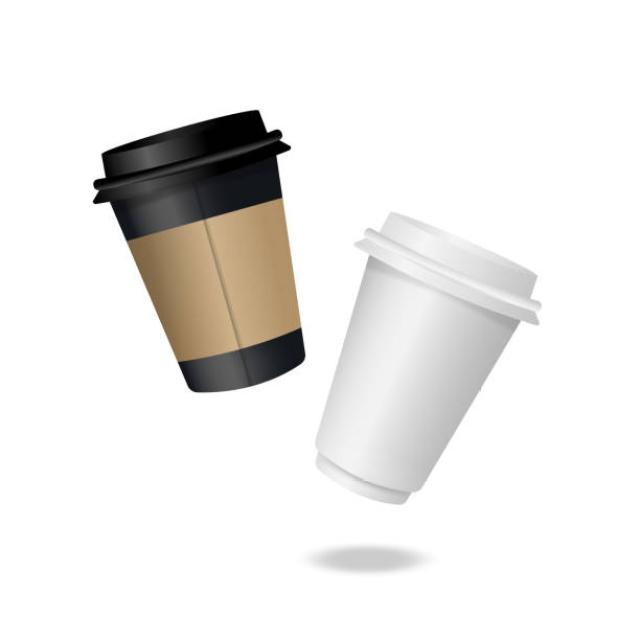cup: (318, 204, 546, 506), (87, 112, 307, 400)
